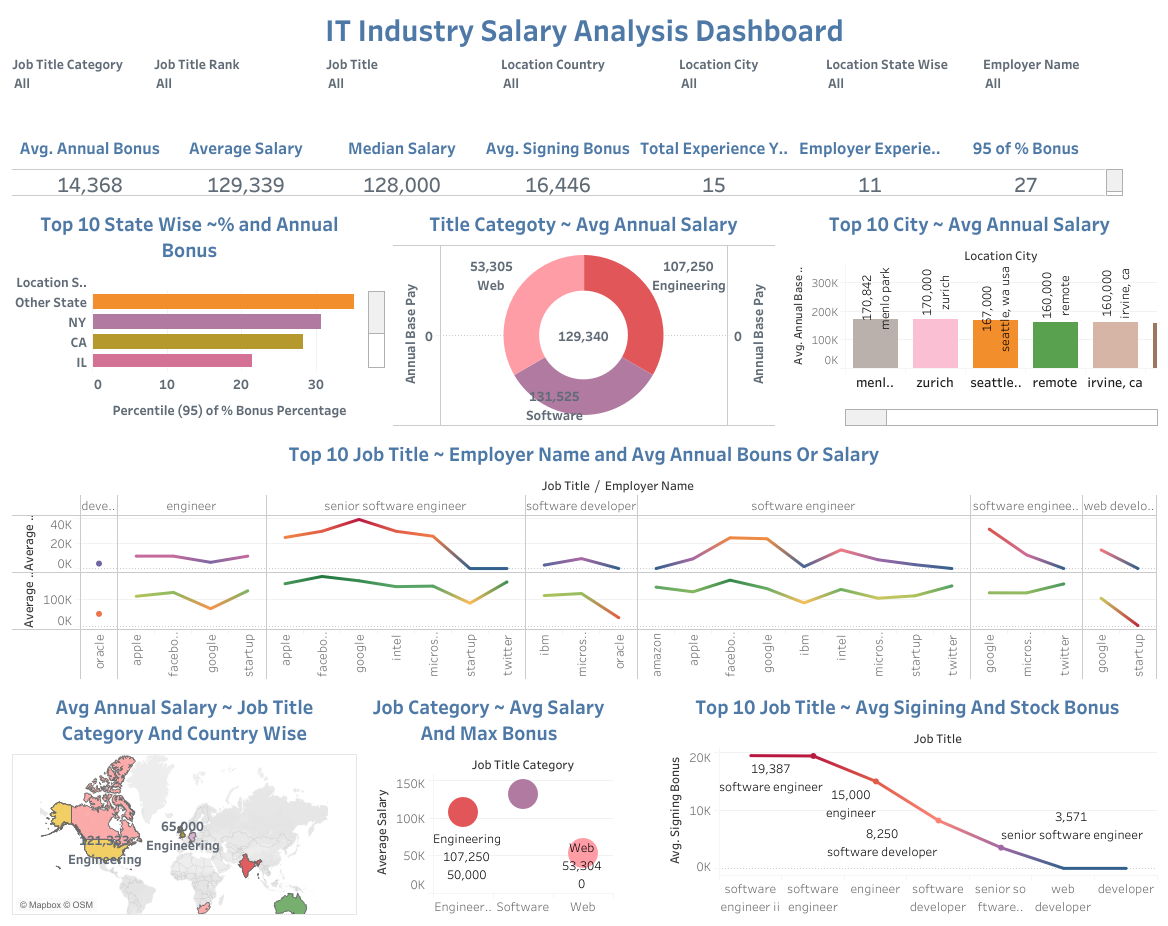

Layout of this report page (visuals, bound fields, positions):
{"tool":"tableau","page":{"name":"DASHBOARD","canvas":[1169,927],"ordinal":0},"visuals":[{"type":"text","box":[8,8,1153,41]},{"type":"filter","title":"Avg Annual Salary + Job Title Category","param":"[federated.1iotjzh0z933dp158wj4g1vph3oa].[none:job_title_category:nk]","box":[8,49,142,57]},{"type":"filter","title":"AVG Salary +Job Title Category + Country","param":"[federated.1iotjzh0z933dp158wj4g1vph3oa].[none:job_title_rank:nk]","box":[150,49,172,57]},{"type":"filter","title":"AVG Salary +Job Title Category + Country","param":"[federated.1iotjzh0z933dp158wj4g1vph3oa].[none:job_title:nk]","box":[322,49,174.5,57]},{"type":"filter","title":"AVG Salary +Job Title Category + Country","param":"[federated.1iotjzh0z933dp158wj4g1vph3oa].[none:location_country:nk]","box":[496.5,49,178.9,57]},{"type":"filter","title":"AVG Salary +Job Title Category + Country","param":"[federated.1iotjzh0z933dp158wj4g1vph3oa].[none:location_name:nk]","box":[675.4,49,146.6,57]},{"type":"filter","title":"Top 10 State Wise + % and Annual Bonus ","param":"[federated.1iotjzh0z933dp158wj4g1vph3oa].[none:Calculation_640074101967347712:nk","box":[822,49,157,57]},{"type":"filter","title":"AVG Salary +Job Title Category + Country","param":"[federated.1iotjzh0z933dp158wj4g1vph3oa].[none:employer_name:nk]","box":[979,49,182,57]},{"type":"worksheet","title":"All KPI","mark":"Automatic","box":[8,106,1153,94]},{"type":"worksheet","title":"Top 10 State Wise + % and Annual Bonus ","mark":"Automatic","rows":["Calculation_640074101967347712"],"box":[8,200,381,230]},{"type":"worksheet","title":"Avg Annual Salary + Job Title Category","mark":"Pie","rows":["annual_base_pay","annual_base_pay"],"box":[388.9,200,390,230]},{"type":"worksheet","title":"Top 10 City + Avg Annual Salary","mark":"Automatic","rows":["annual_base_pay"],"cols":["location_name"],"box":[779,200,382,230]},{"type":"worksheet","title":"Top 10 Job Title + Employer Name + AVG Annual Bonus and Salary","mark":"Line","rows":["Calculation_1221882878884827137","Calculation_640074101971161091"],"cols":["job_title","employer_name"],"box":[8,430,1153,253]},{"type":"worksheet","title":"AVG Salary +Job Title Category + Country","mark":"Multipolygon","box":[8,683,353,236]},{"type":"worksheet","title":"Job Category + Avg Salary + Max Bonus","mark":"Circle","rows":["Calculation_640074101971161091"],"cols":["job_title_category"],"box":[361,683,293,236]},{"type":"worksheet","title":"Top 10 Job Title + Avg Signing Bonus+ Stock Bonus","mark":"Line","rows":["signing_bonus"],"cols":["job_title"],"box":[654,683,507,236]}]}

Visuals, with their boxes in screenshot pixels (x1, y1, x2, y2), scaled from the page's 1169x927 canvas onto the 1168x926 screenshot:
text: x1=8, y1=8, x2=1160, y2=49
"Avg Annual Salary + Job Title Category" filter: x1=8, y1=49, x2=150, y2=106
"AVG Salary +Job Title Category + Country" filter: x1=150, y1=49, x2=322, y2=106
"AVG Salary +Job Title Category + Country" filter: x1=322, y1=49, x2=496, y2=106
"AVG Salary +Job Title Category + Country" filter: x1=496, y1=49, x2=675, y2=106
"AVG Salary +Job Title Category + Country" filter: x1=675, y1=49, x2=821, y2=106
"Top 10 State Wise + % and Annual Bonus " filter: x1=821, y1=49, x2=978, y2=106
"AVG Salary +Job Title Category + Country" filter: x1=978, y1=49, x2=1160, y2=106
"All KPI" worksheet: x1=8, y1=106, x2=1160, y2=200
"Top 10 State Wise + % and Annual Bonus " worksheet: x1=8, y1=200, x2=389, y2=430
"Avg Annual Salary + Job Title Category" worksheet (Pie marks): x1=389, y1=200, x2=778, y2=430
"Top 10 City + Avg Annual Salary" worksheet: x1=778, y1=200, x2=1160, y2=430
"Top 10 Job Title + Employer Name + AVG Annual Bonus and Salary" worksheet (Line marks): x1=8, y1=430, x2=1160, y2=682
"AVG Salary +Job Title Category + Country" worksheet (Multipolygon marks): x1=8, y1=682, x2=361, y2=918
"Job Category + Avg Salary + Max Bonus" worksheet (Circle marks): x1=361, y1=682, x2=653, y2=918
"Top 10 Job Title + Avg Signing Bonus+ Stock Bonus" worksheet (Line marks): x1=653, y1=682, x2=1160, y2=918
